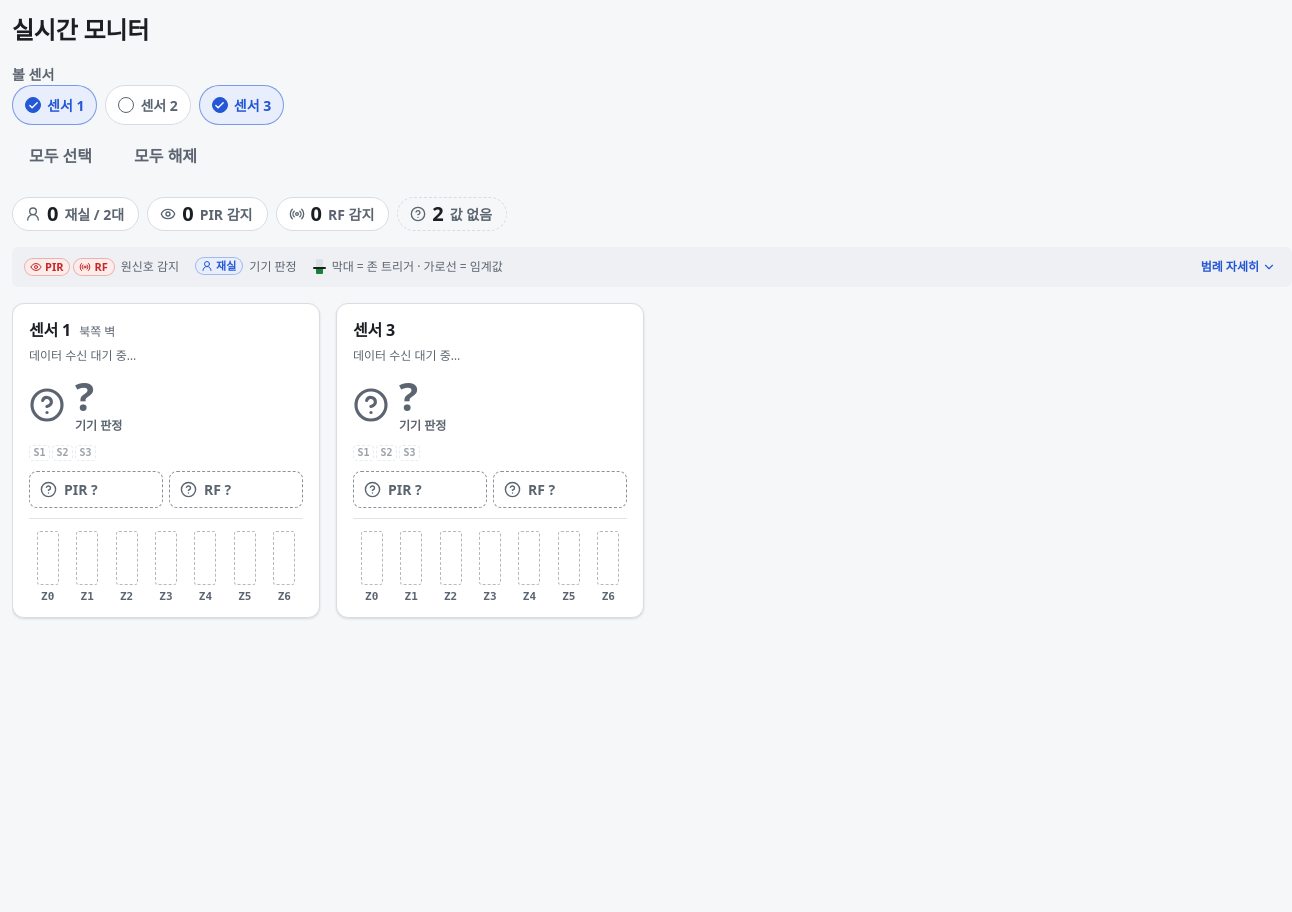
Test: MonitorScreen › starts with every connected sensor: one tile each, a summary and a compact legend
The image size is (1292, 912).
Expected: the list item "센서 1" shows "북쪽 벽", [79,323,115,340]
Expected: the list item "센서 1" shows "데이터 수신 대기 중…", [29,347,136,364]
Click the button "범례 자세히": (1238, 267) [1197,253,1280,281]
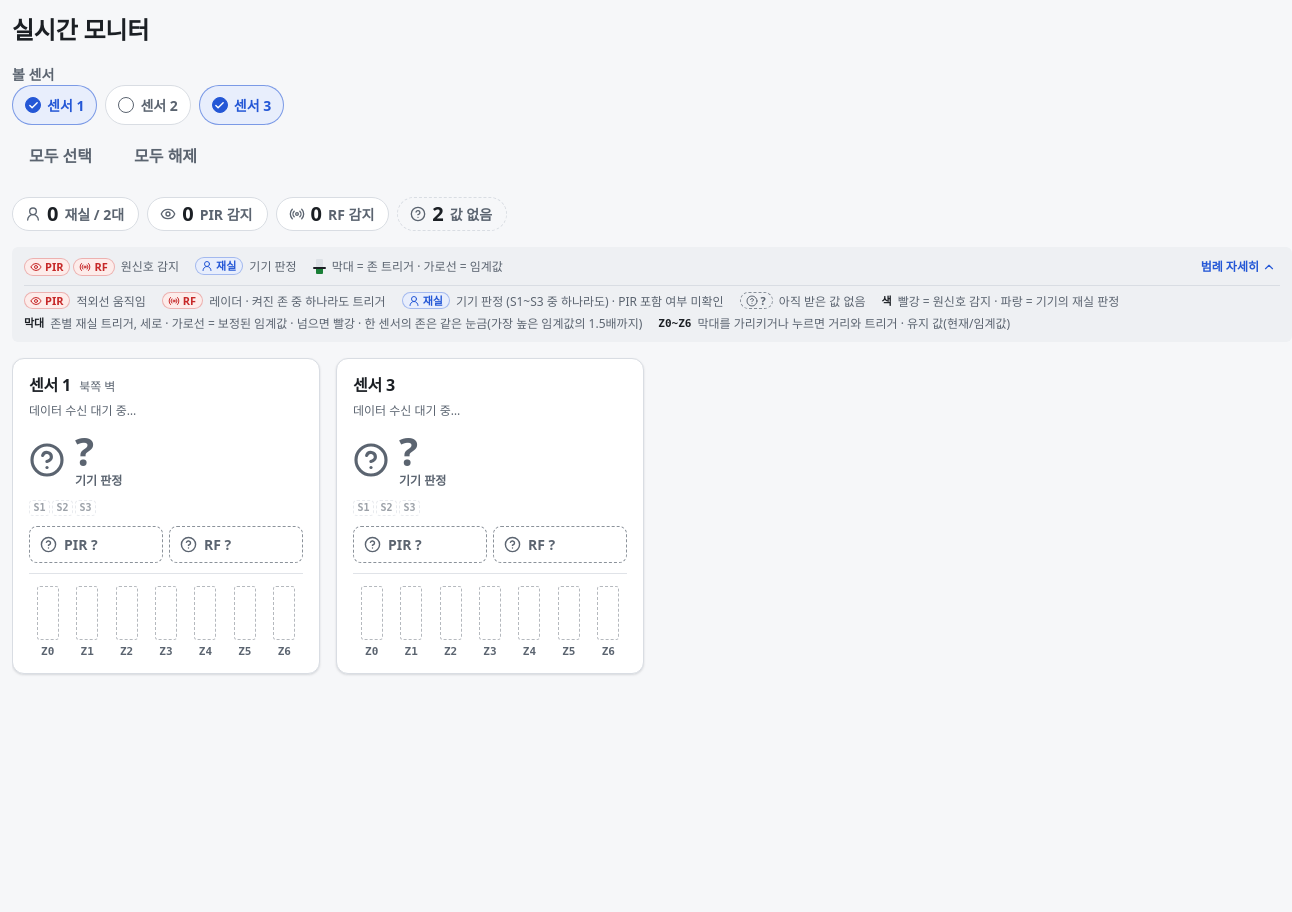
Expected: the button "범례 자세히" is expanded, [1197,253,1280,281]
Expected: the text "기기 판정 (S1~S3 중 하나라도) · PIR 포함 여부 미확인" is shown, [456,293,724,310]
Expected: the text "가로선 = 보정된 임계값" is shown, [50,315,642,332]
